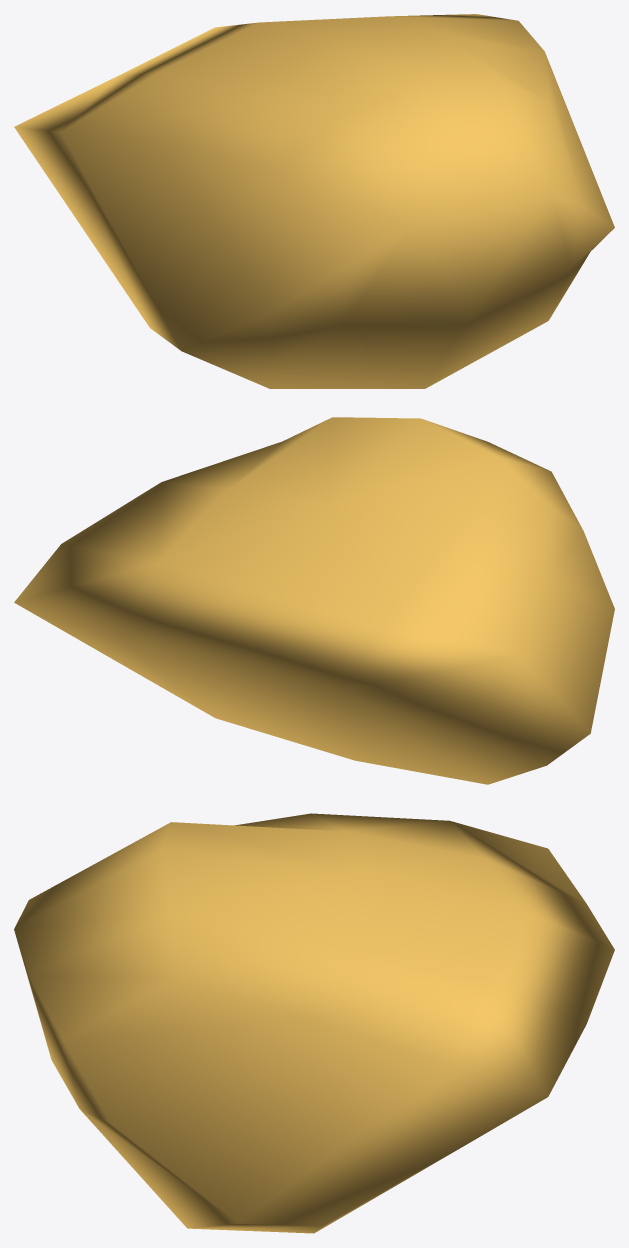
The model's file is Beard_Yellow_1.fbx.
The picture shows the model from 3 angles, top to bottom: view 1: azimuth 30°, elevation 25°; view 2: azimuth 150°, elevation 25°; view 3: azimuth 270°, elevation 25°; orthographic projection. The views are drawn at different scales.
Visible parts, largest first — view 1: Beard_Yellow_1; view 2: Beard_Yellow_1; view 3: Beard_Yellow_1.
Boxes of the visible parts, <box> form: Beard_Yellow_1: <box>14,14,614,388</box>; Beard_Yellow_1: <box>14,417,614,784</box>; Beard_Yellow_1: <box>14,813,614,1233</box>.
Size of the model in its own units: 14.67 by 9.05 by 15.
